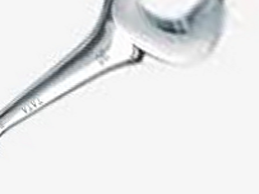Wrench: (4, 1, 227, 143)
